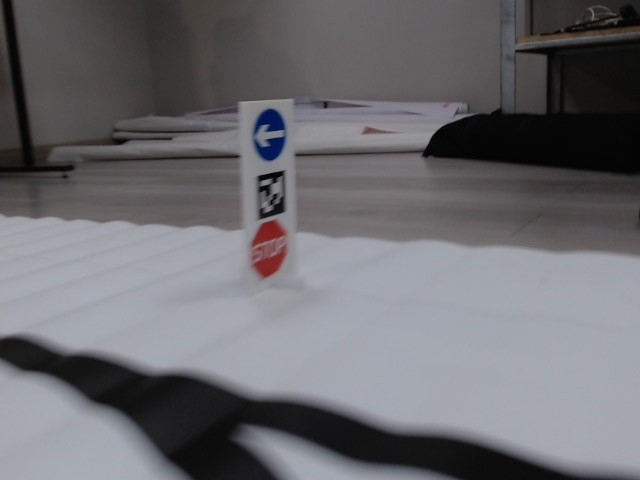Stop: (252, 217, 288, 276)
